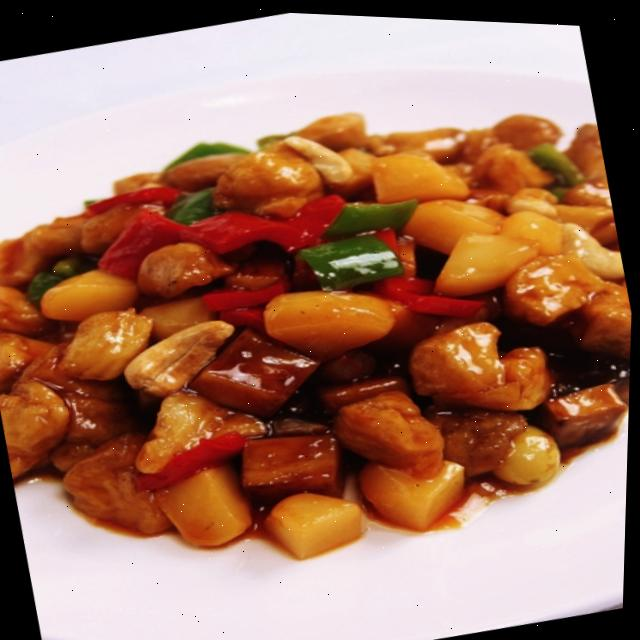鸡肉料理 含炸鸡: (0, 5, 640, 640)
